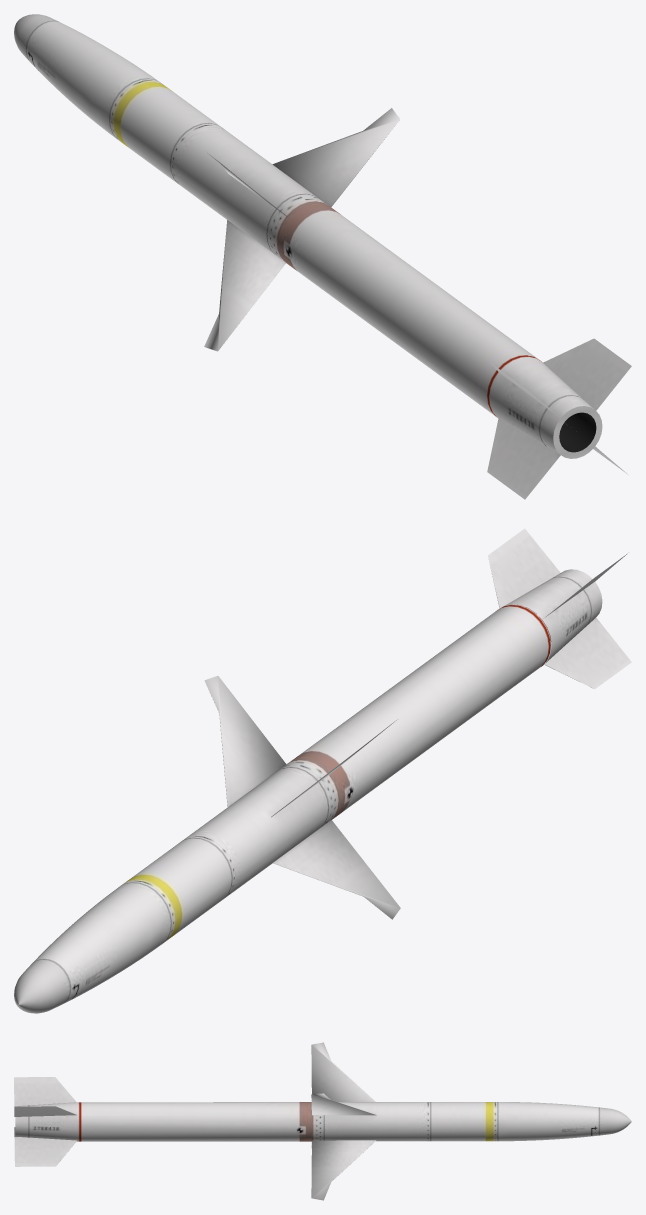
Rendered from agm88.glb.
The picture shows the model from 3 angles, top to bottom: view 1: azimuth 30°, elevation 25°; view 2: azimuth 150°, elevation 25°; view 3: azimuth 270°, elevation 25°; orthographic projection. The views are drawn at different scales.
Visible parts, largest first — view 1: agm88_body; view 2: agm88_body; view 3: agm88_body.
Boxes of the visible parts, x1,y1,x2,y2 form: agm88_body: [14, 14, 631, 499]; agm88_body: [14, 528, 631, 1013]; agm88_body: [14, 1042, 631, 1200].
Bounding box in the file's own units: 0.7991 × 0.7991 × 4.12.
Materials: 1 (1 with a texture image).
